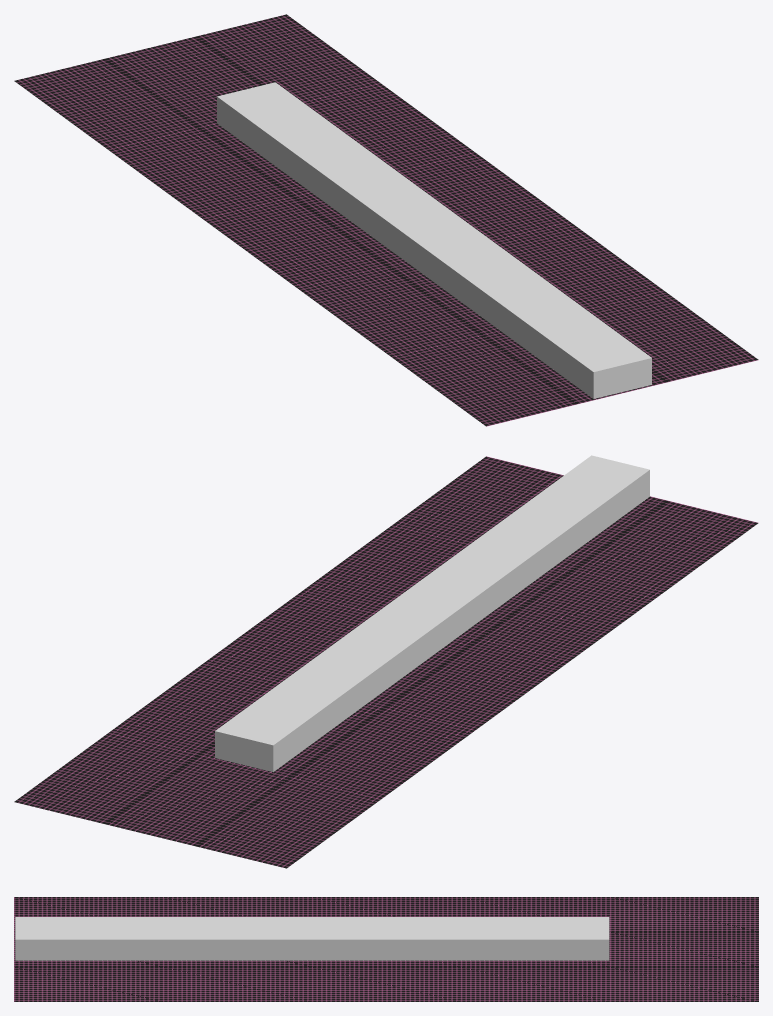
File: galeria_foda.glb
3 renders of one model, top to bottom at view 1: azimuth 30°, elevation 25°; view 2: azimuth 150°, elevation 25°; view 3: azimuth 270°, elevation 25°, orthographic. The views are drawn at different scales.
Visible parts, largest first — view 1: Plane.006, PlayArea; view 2: Plane.006, PlayArea; view 3: Plane.006, PlayArea.
Boxes of the visible parts, left/top/right/bottom form: Plane.006: left=14, top=14, right=758, bottom=426; PlayArea: left=217, top=82, right=651, bottom=398; Plane.006: left=14, top=456, right=758, bottom=868; PlayArea: left=215, top=455, right=649, bottom=772; Plane.006: left=14, top=897, right=758, bottom=1001; PlayArea: left=15, top=917, right=609, bottom=960.
Size of the model in its own units: 15 by 1.44 by 45.
25 materials, 25 textured.
